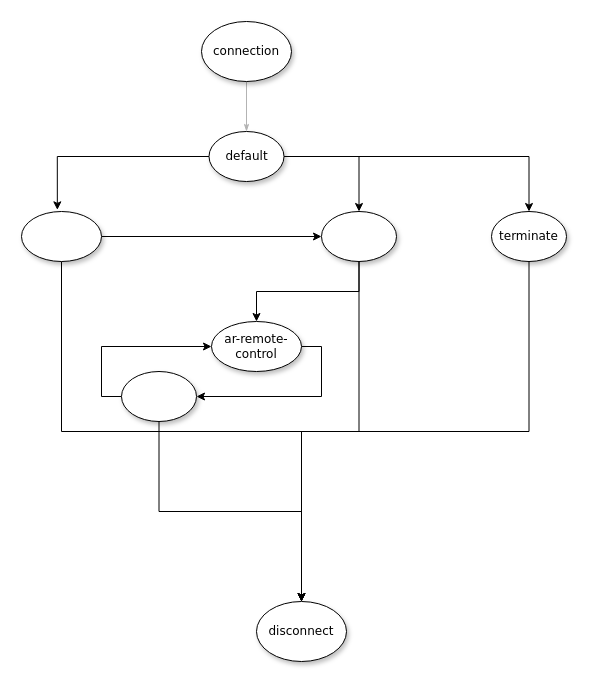
This 590x686 diagram has some shape labels left out. The centre of each missing label's shape, as x and y in pixels:
init: [359,237]
success: [159,397]
waiting: [62,237]
